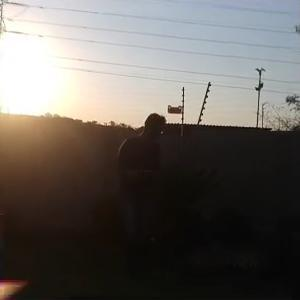follow: (109, 106, 164, 296)
